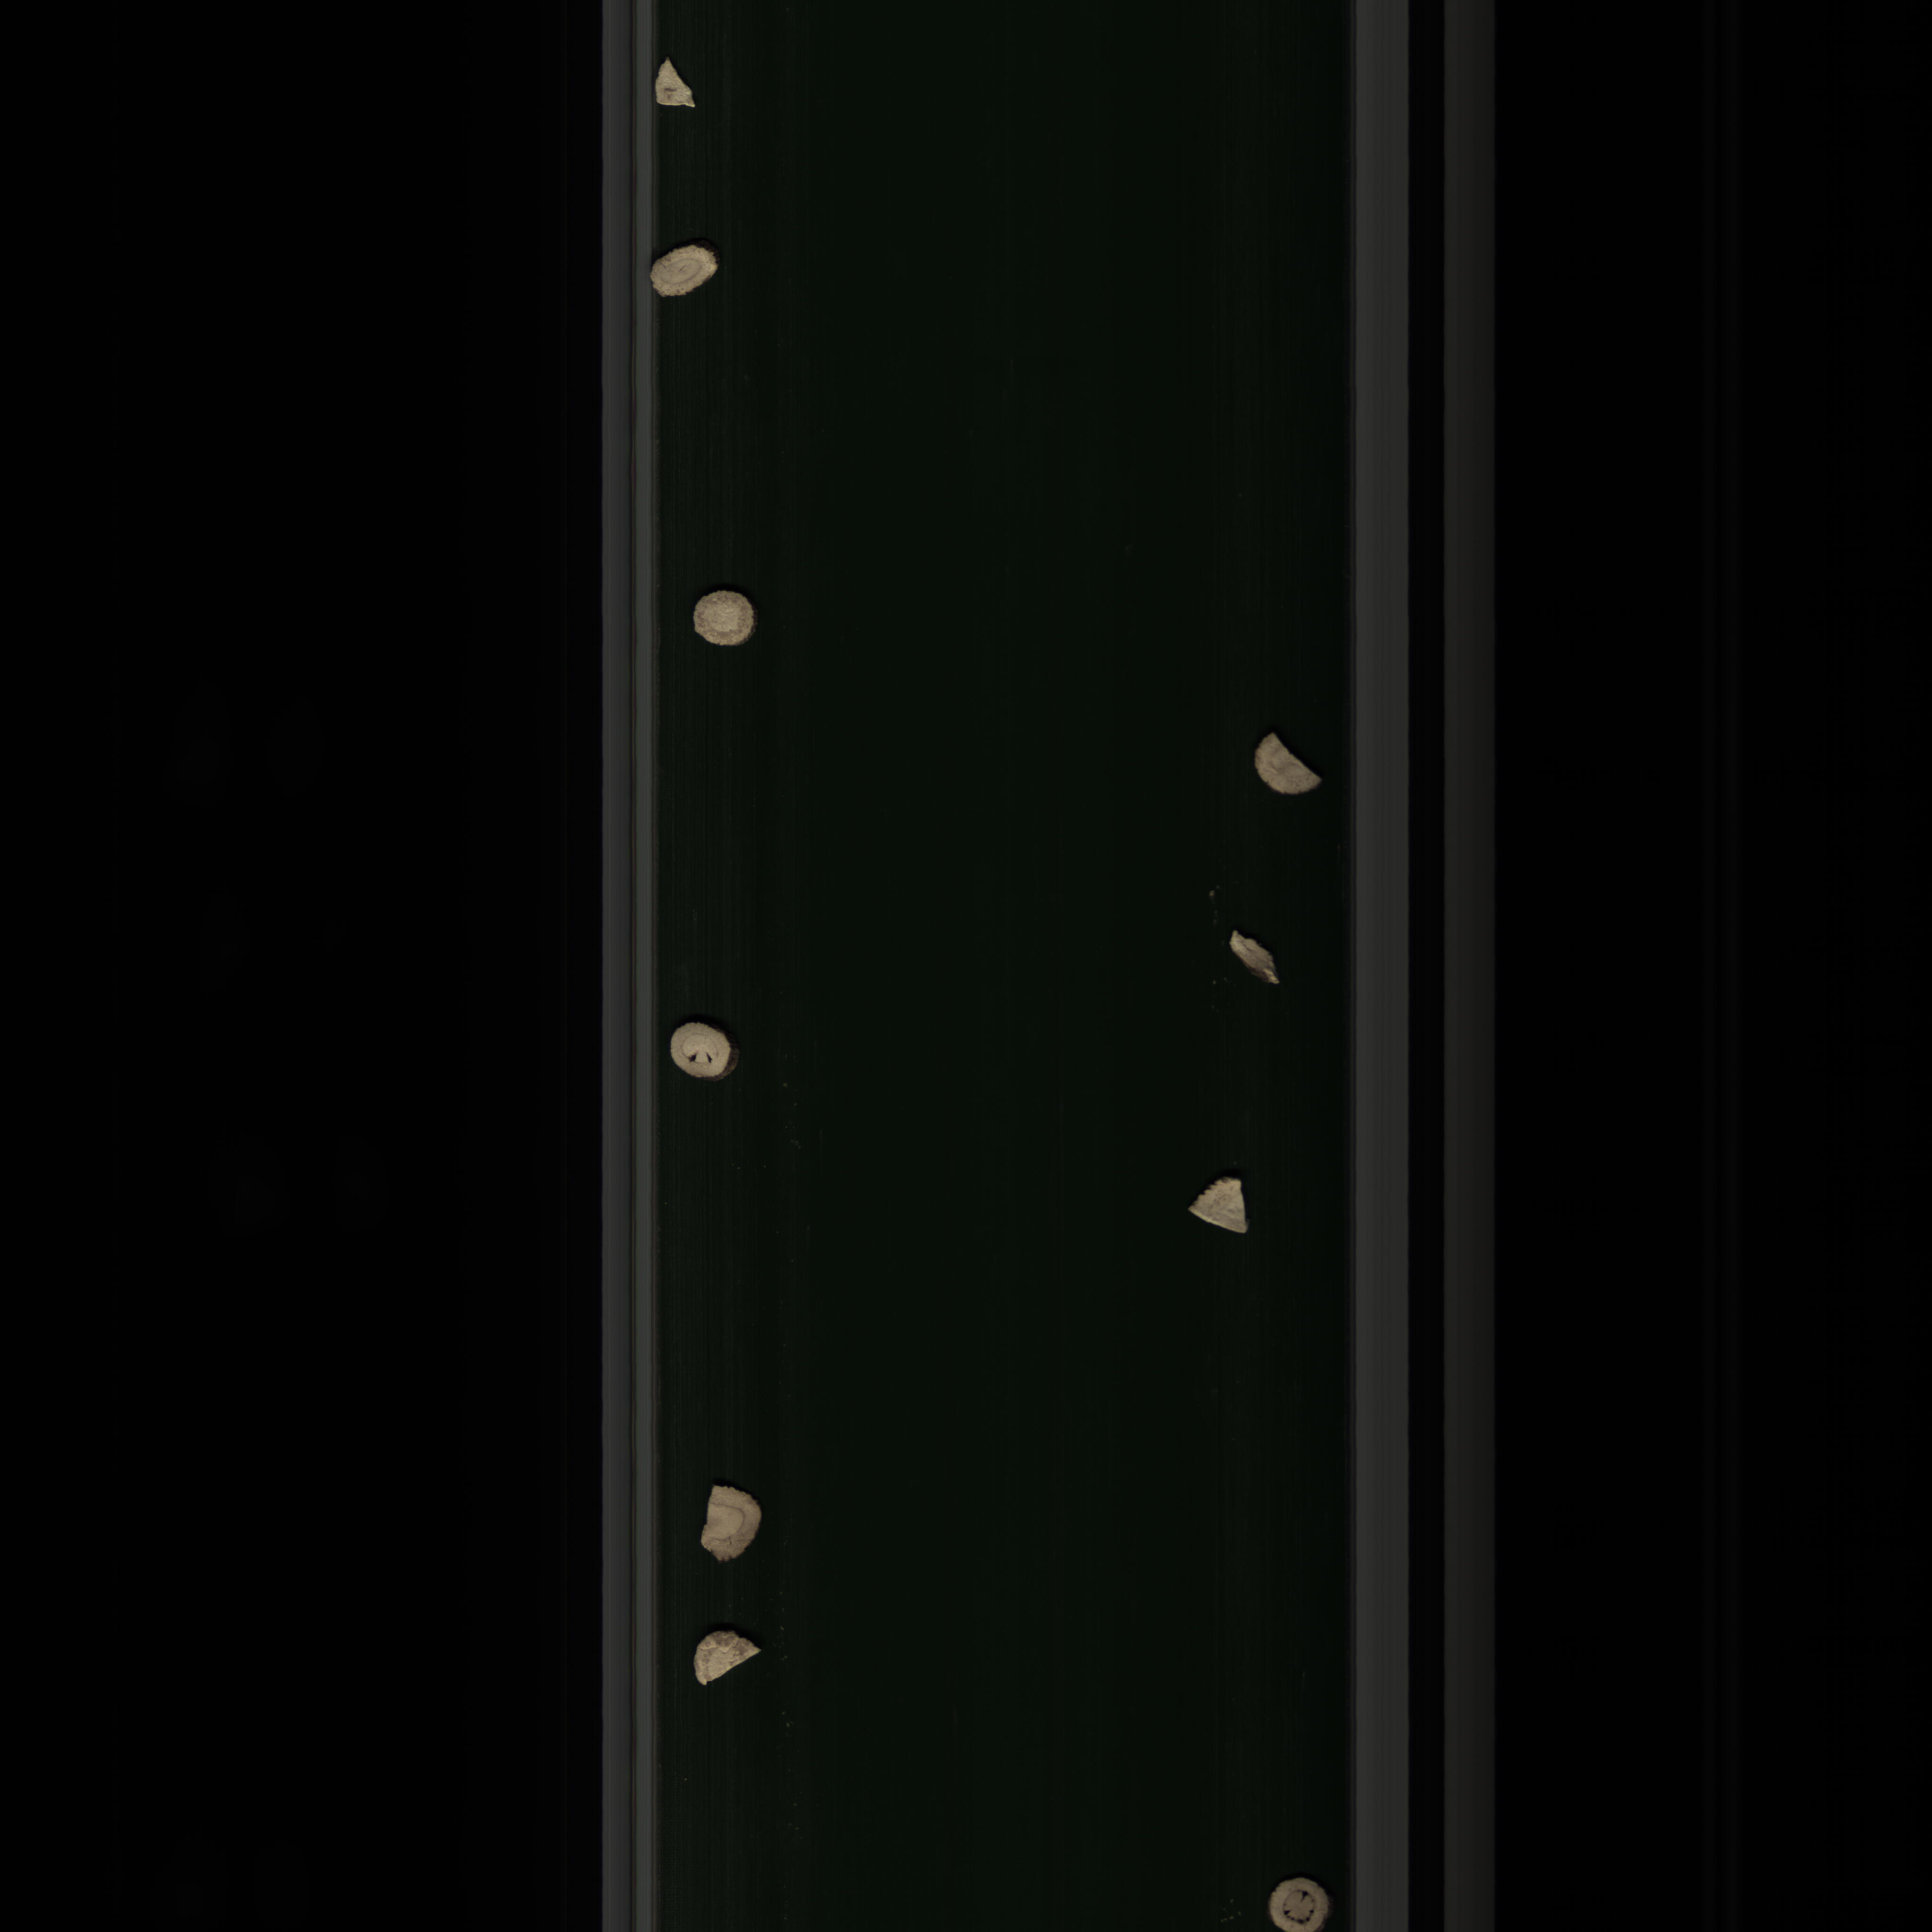bark: (1215, 925, 1297, 998)
debris: (686, 1477, 766, 1575), (1242, 725, 1330, 798), (1177, 1169, 1261, 1242), (688, 1622, 764, 1688), (653, 55, 706, 120)
hole: (662, 1016, 743, 1085), (1260, 1875, 1338, 1930)
